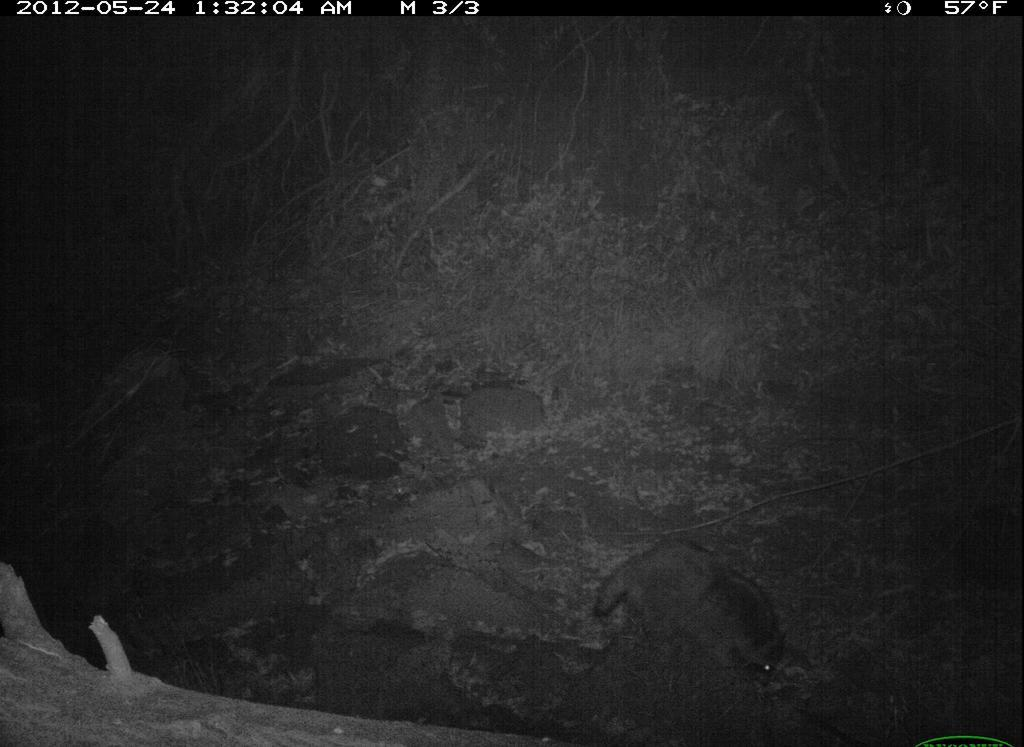raccoon: (587, 525, 802, 693)
